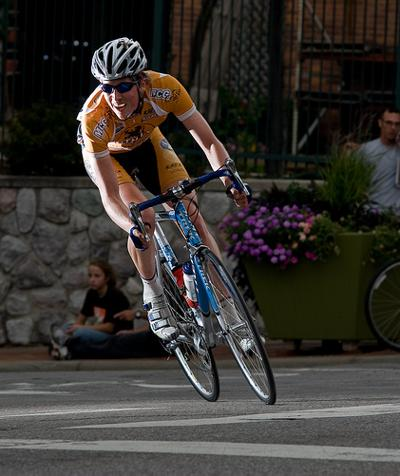person: (78, 34, 257, 354)
